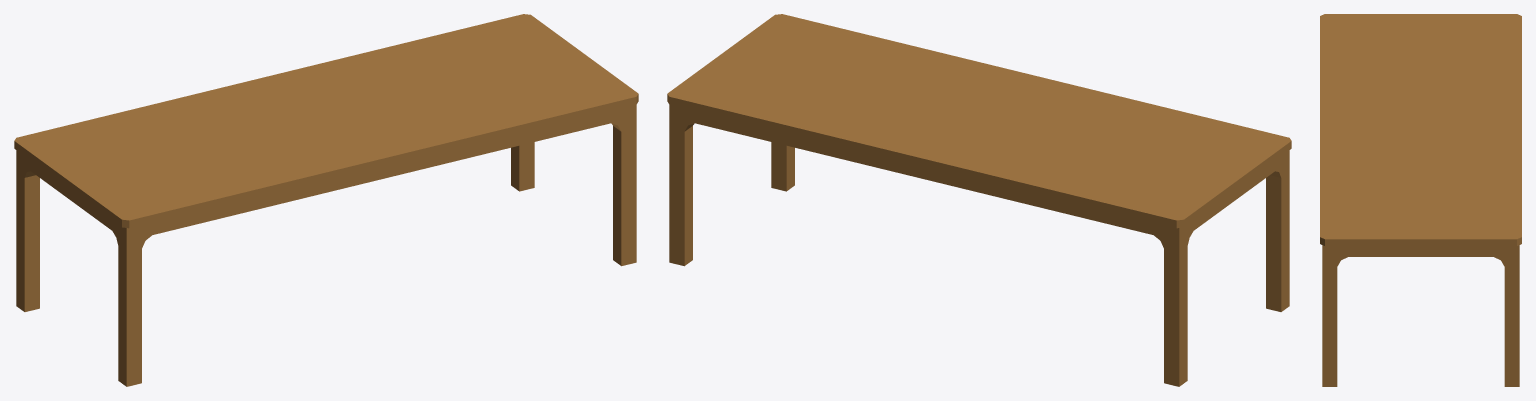
The model's file is table-dining-long.fbx.
3 renders of one model, left to right at view 1: azimuth 30°, elevation 25°; view 2: azimuth 150°, elevation 25°; view 3: azimuth 270°, elevation 25°, orthographic. The views are drawn at different scales.
Parts seen in each view (by area): view 1: table-dining-long; view 2: table-dining-long; view 3: table-dining-long.
Boxes of the visible parts, bbox=[...] form: table-dining-long: bbox=[14, 14, 638, 386]; table-dining-long: bbox=[667, 14, 1291, 386]; table-dining-long: bbox=[1320, 14, 1521, 386].
Size of the model in its own units: 2.43 by 0.7518 by 0.9215.
